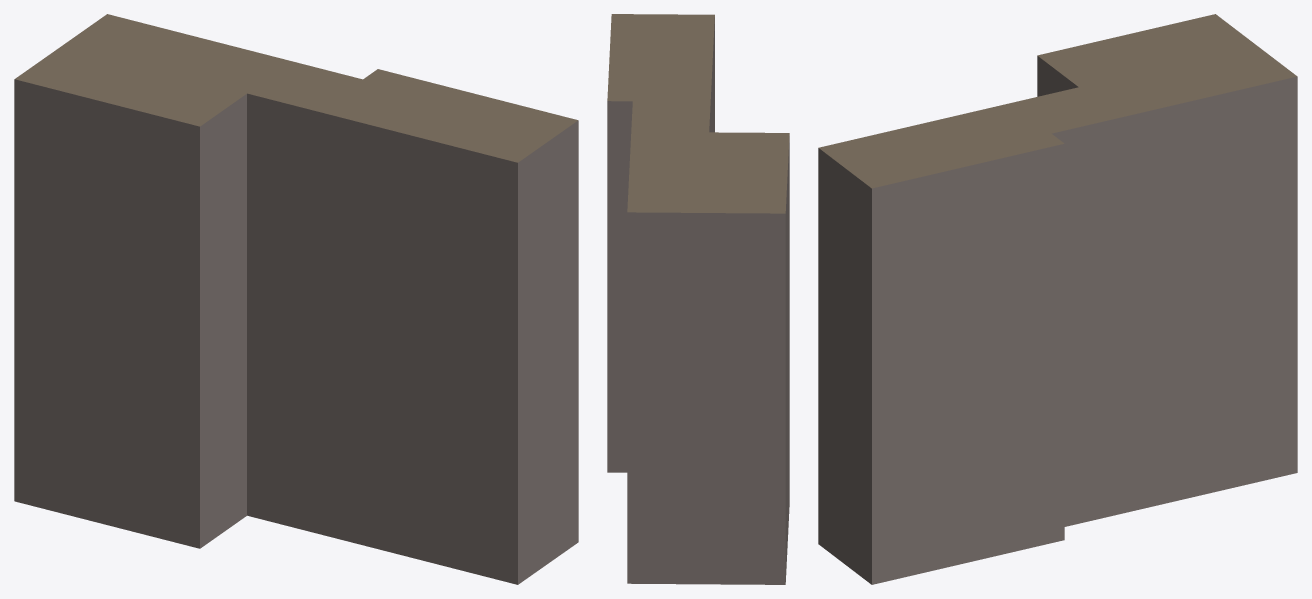
The model's file is nyc-1034205-0.glb.
The picture shows the model from 3 angles, left to right: view 1: azimuth 30°, elevation 25°; view 2: azimuth 150°, elevation 25°; view 3: azimuth 270°, elevation 25°; orthographic projection. The views are drawn at different scales.
Visible parts, largest first — view 1: nyc-1034205-0; view 2: nyc-1034205-0; view 3: nyc-1034205-0.
Part boxes in pixels (<box>): nyc-1034205-0: <box>14,14,578,584</box>; nyc-1034205-0: <box>607,14,789,584</box>; nyc-1034205-0: <box>818,14,1297,584</box>.
Size of the model in its own units: 50.37 by 53.34 by 58.43.
